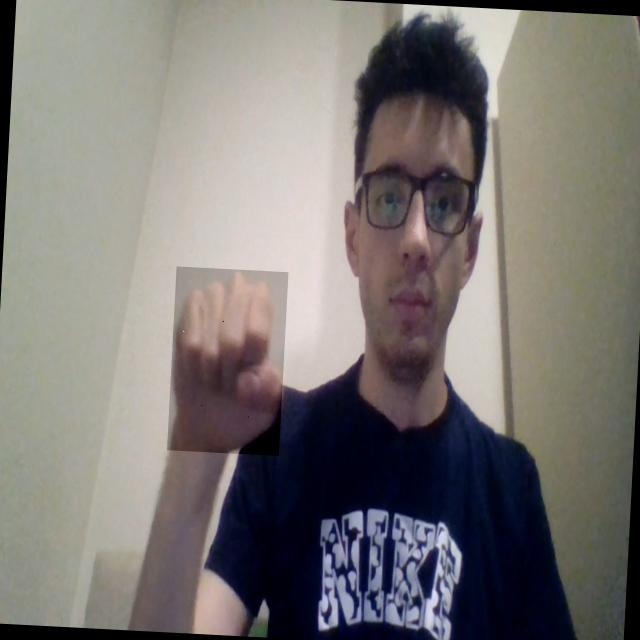yes: (168, 266, 288, 456)
